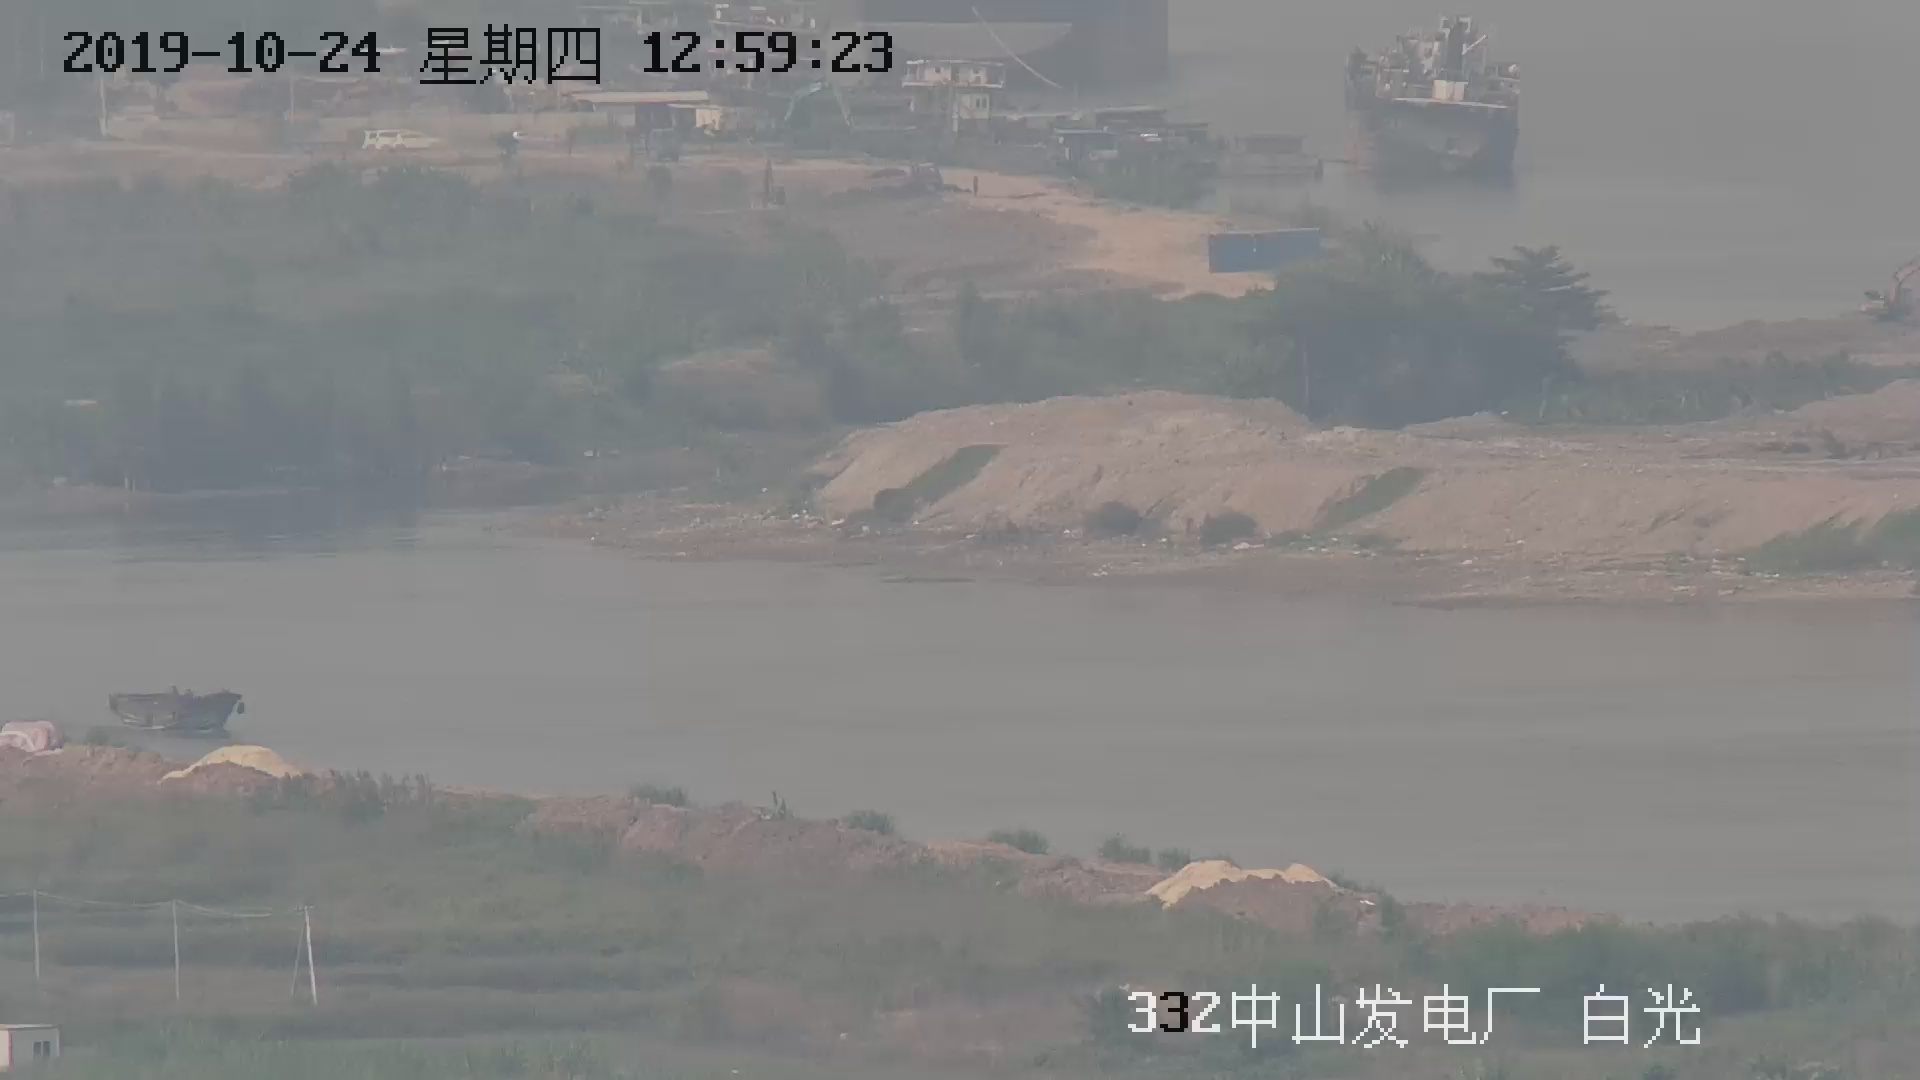ship: (1354, 11, 1526, 179), (102, 680, 255, 736)
